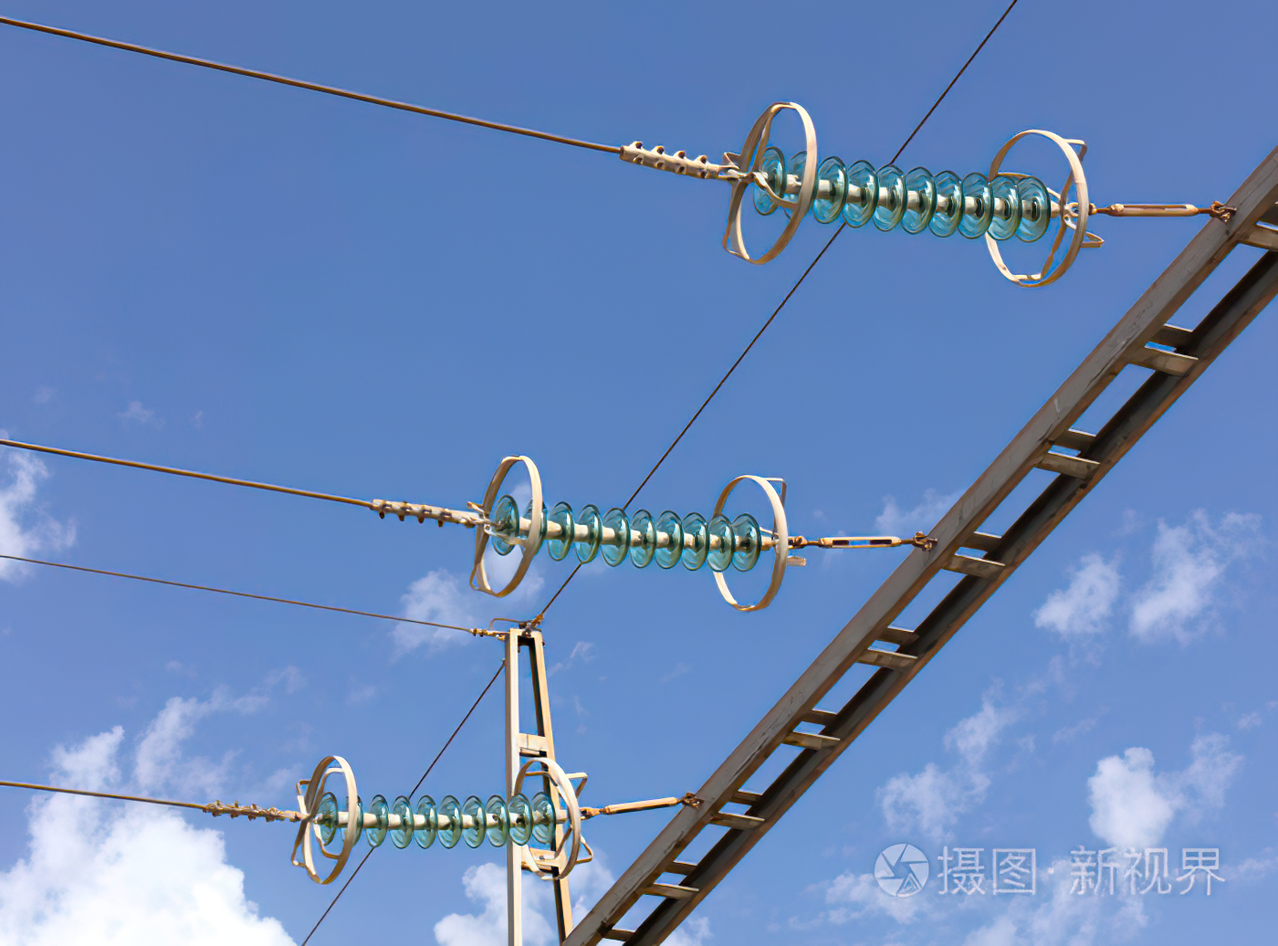insulator: (757, 138, 1052, 245), (486, 492, 759, 575), (307, 785, 555, 848)
